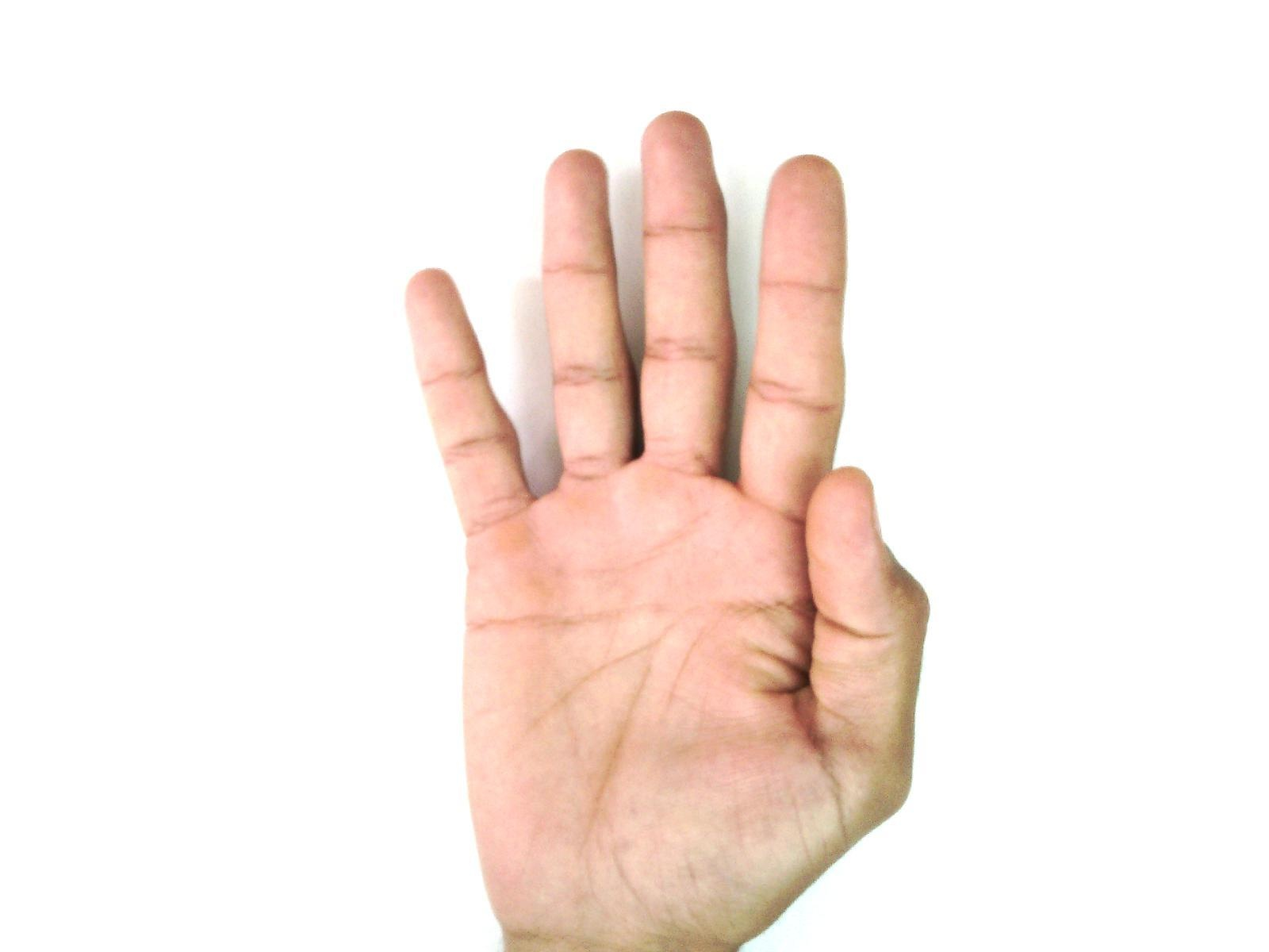open_palm: (401, 109, 933, 950)
